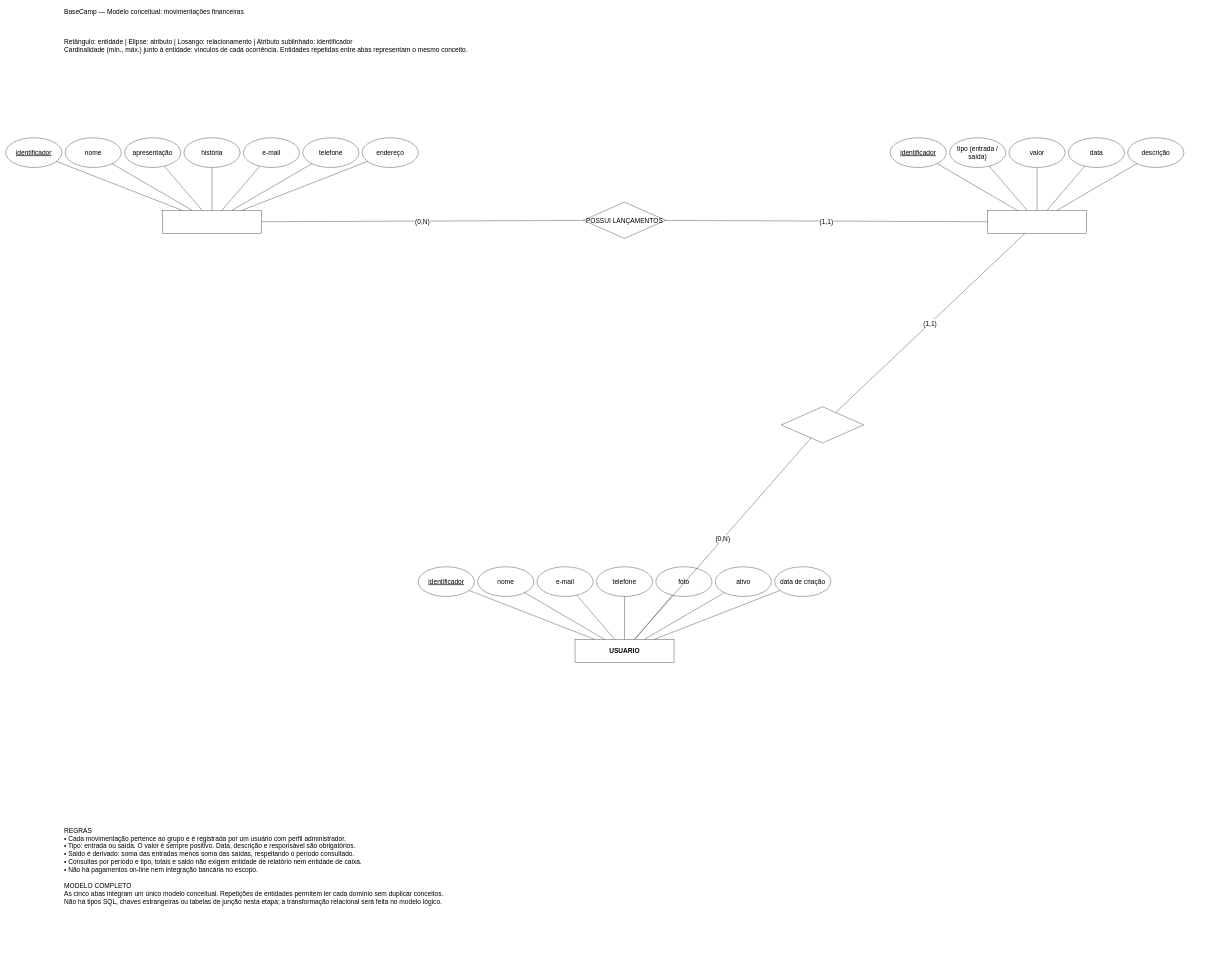
Image size: 1224x962. Some labels were removed from this diagram. Here are the shapes that lost their labels. From the top down, the centre of each, then its label:
the point at 212,221: GRUPO
the point at 1037,221: MOVIMENTACAO
the point at 822,424: REGISTRA
